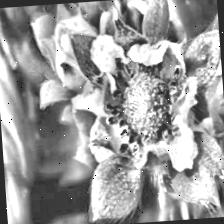Blossom Blight: (97, 46, 202, 169)
